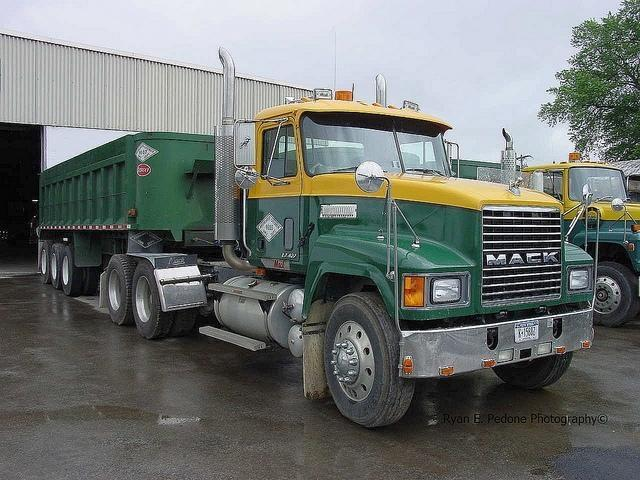truck: (38, 48, 600, 418), (524, 163, 638, 317)
